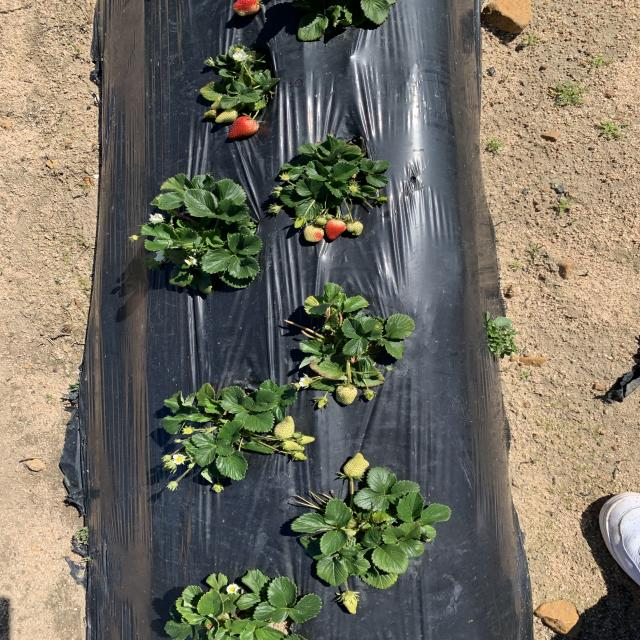unripe: (223, 116, 259, 140), (231, 0, 261, 17), (325, 220, 345, 239)
